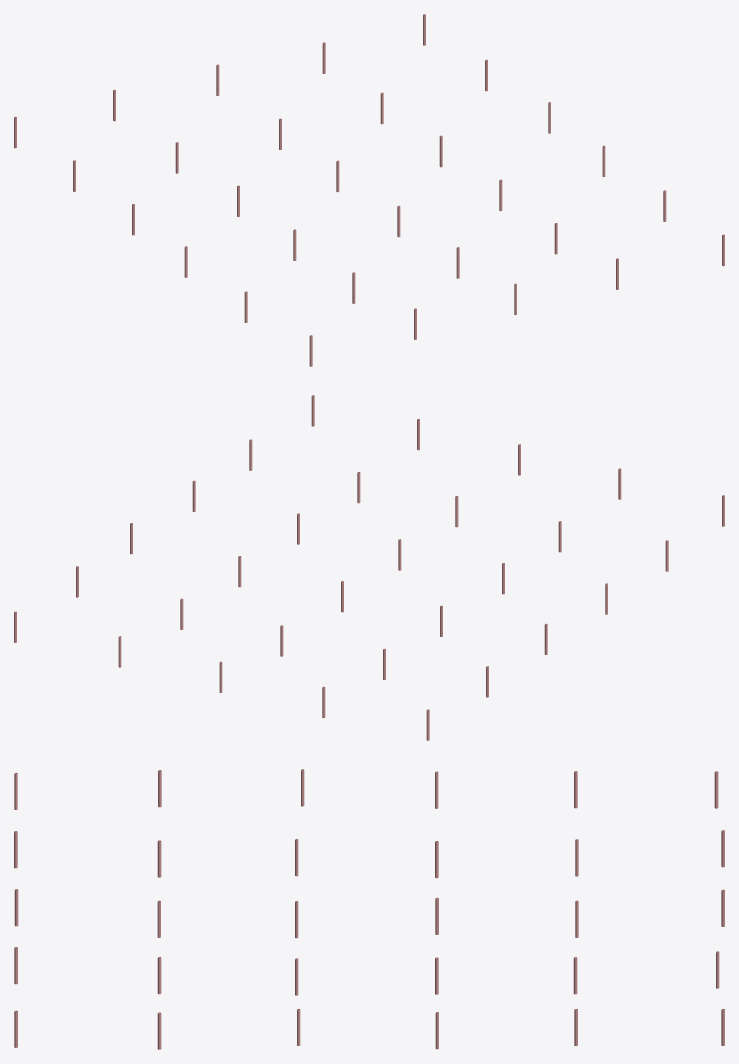
Rendered from palki.FBX.
The picture shows the model from 3 angles, top to bottom: view 1: azimuth 30°, elevation 25°; view 2: azimuth 150°, elevation 25°; view 3: azimuth 270°, elevation 25°; orthographic projection. The views are drawn at different scales.
Bounding box in the file's own units: 8331 × 755 × 10248.
